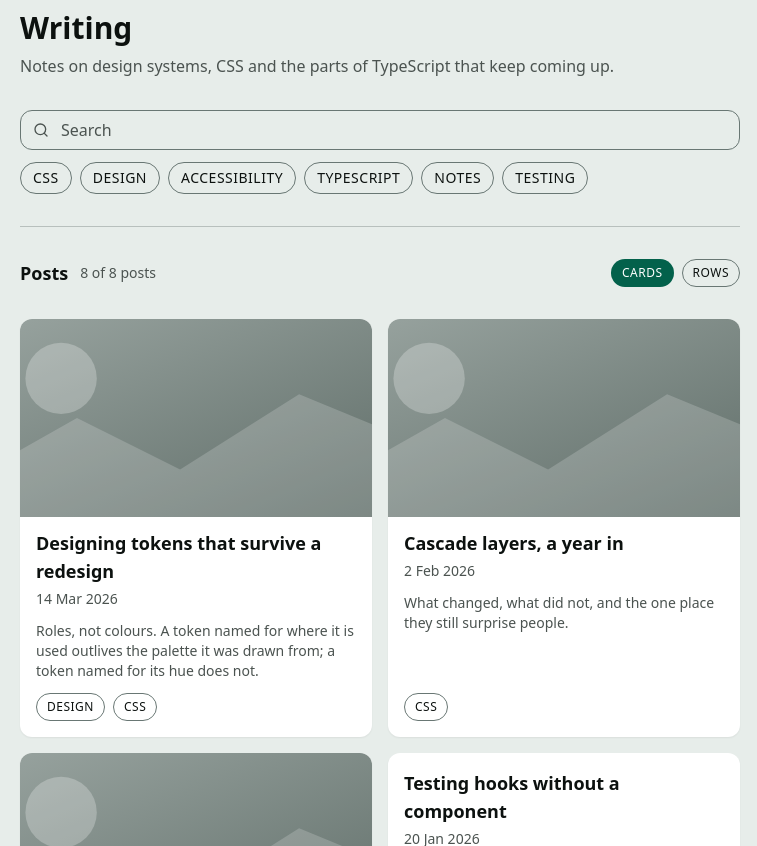
the kitchen sink › two tags narrow rather than widen
Click the 1st button "design" at (120, 178), box [80, 162, 160, 194]
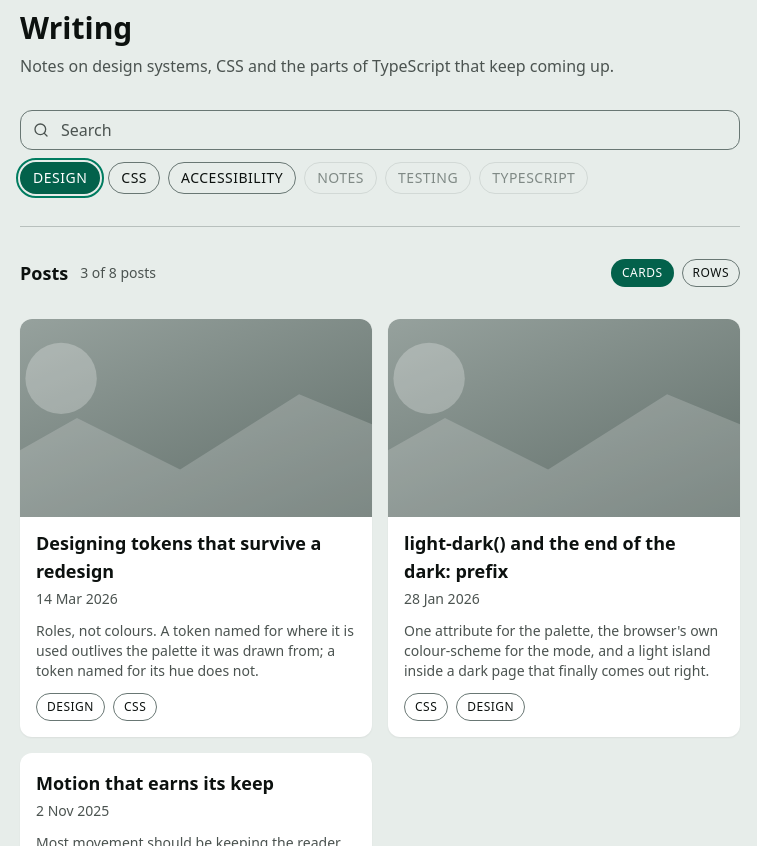
Click the 1st button "css" at (134, 178), box [108, 162, 160, 194]
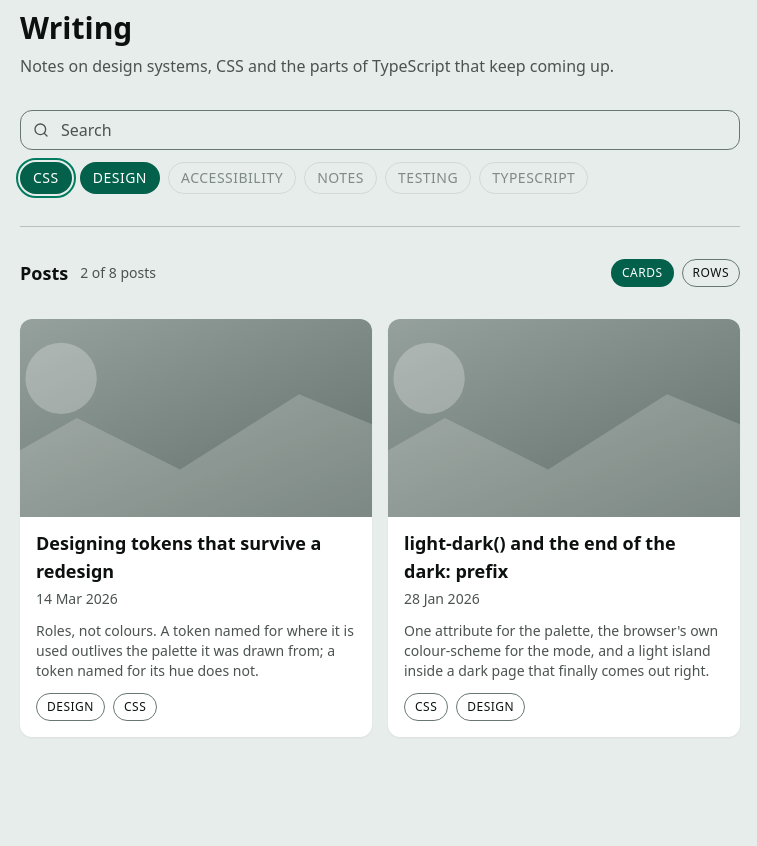
Expected: the text "2 of 8 posts" is shown, [80, 263, 156, 283]
